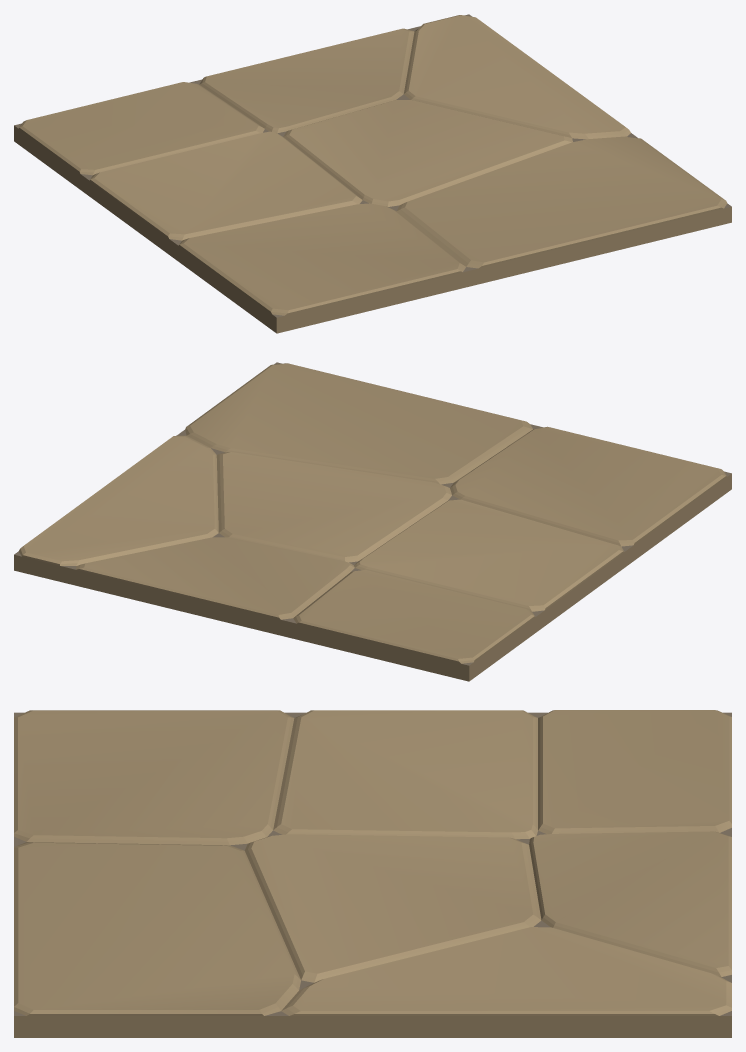
File: path-tile.glb
3 renders of one model, top to bottom at view 1: azimuth 30°, elevation 25°; view 2: azimuth 150°, elevation 25°; view 3: azimuth 270°, elevation 25°, orthographic. The views are drawn at different scales.
Parts seen in each view (by area): view 1: path-tile; view 2: path-tile; view 3: path-tile.
Part boxes in pixels (x1,y1,x2,y2): path-tile: (14,14,731,333); path-tile: (14,362,731,681); path-tile: (14,710,731,1037).
Bounding box in the file's own units: 2 × 0.08 × 2.
